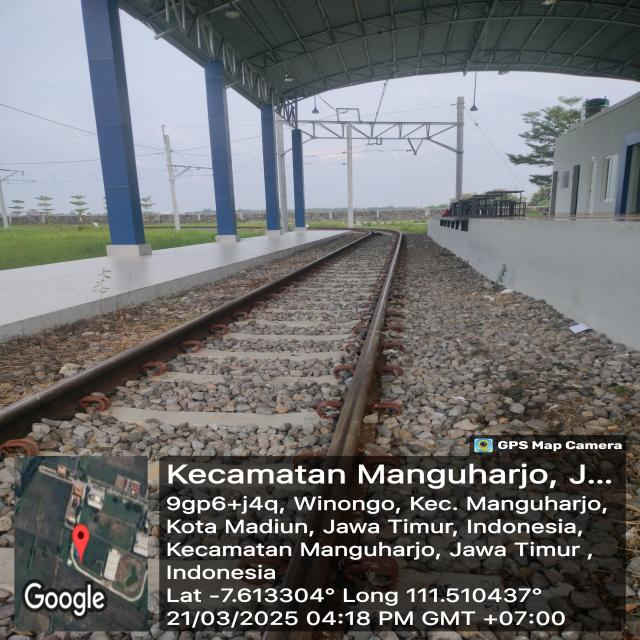rail-detection: (0, 232, 371, 442), (327, 231, 404, 456)
